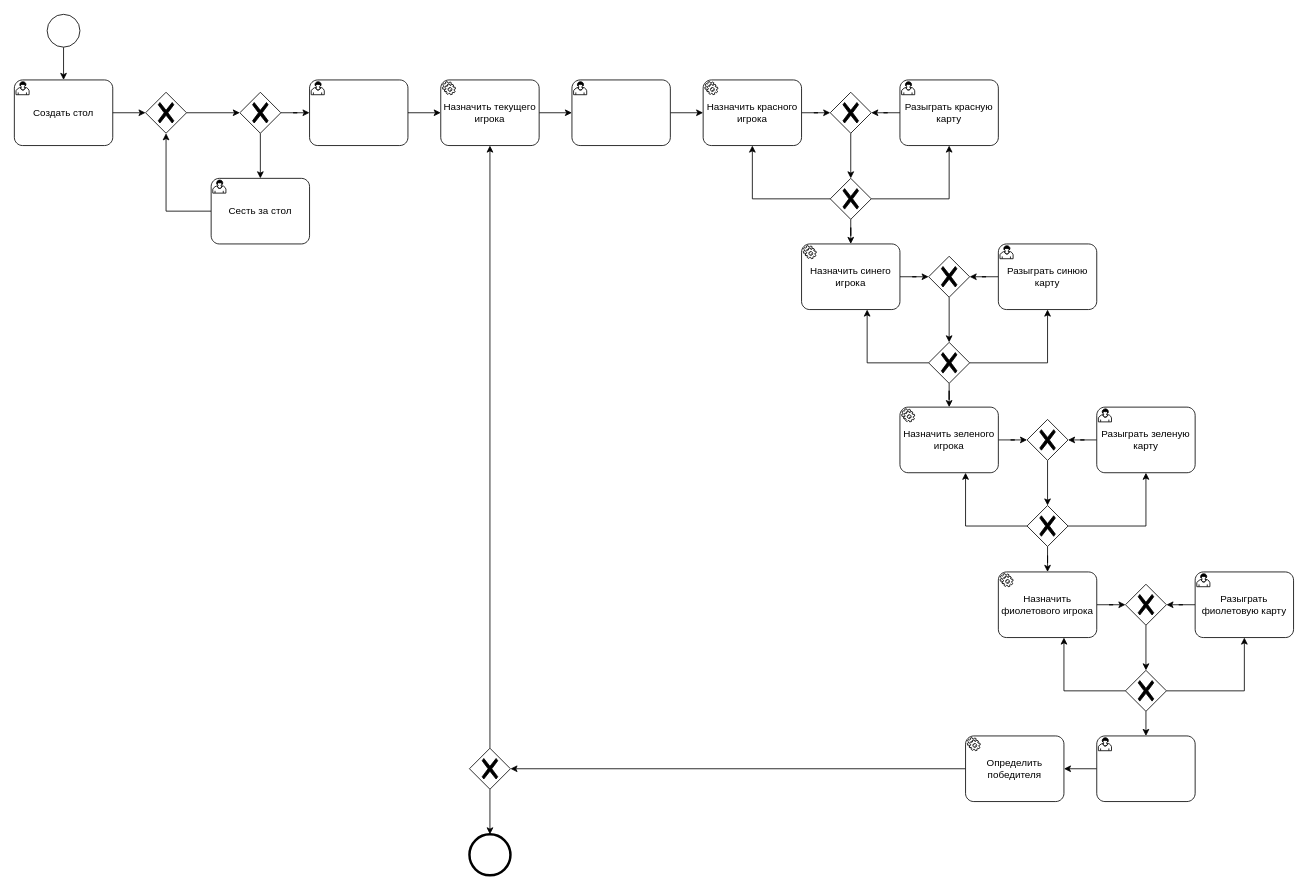
This 1308x890 diagram has some shape labels left out. The shapes that lost their labels are listed below. From the top down, each one's centre as x and y in pixels, then its label:
(x=358, y=112): Начать игру
(x=620, y=112): Бросить кубики
(x=1145, y=768): Купить карту
